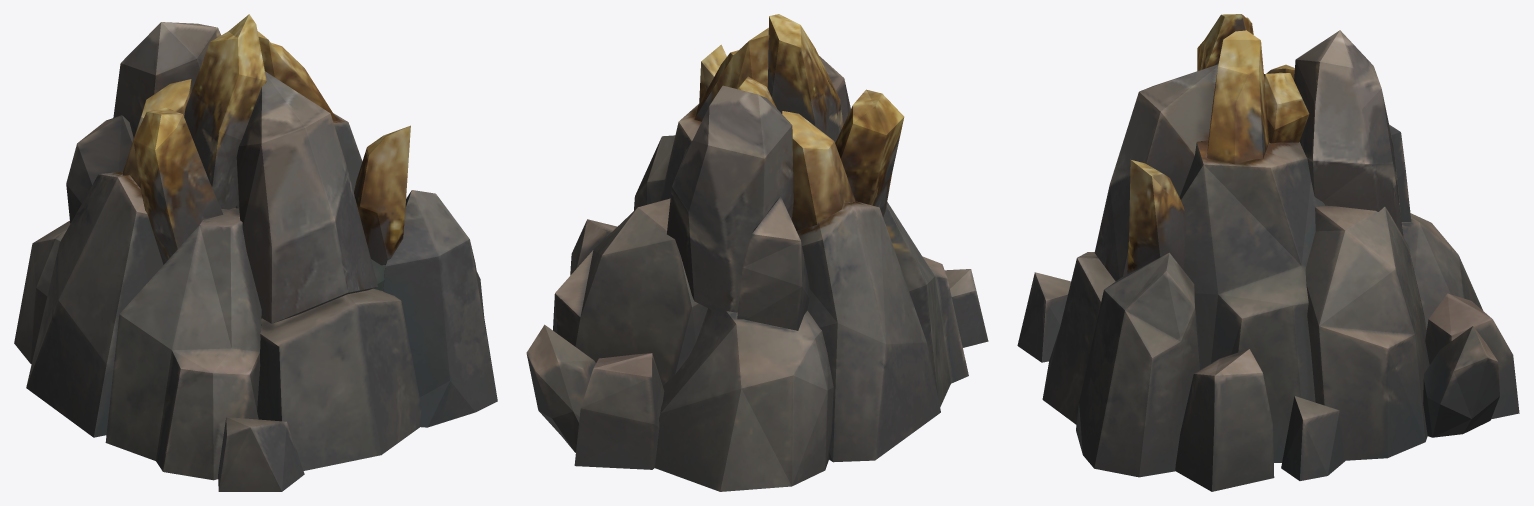
File: CopperMine.FBX
3 views of the same model, side by side, from view 1: azimuth 30°, elevation 25°; view 2: azimuth 150°, elevation 25°; view 3: azimuth 270°, elevation 25° (orthographic). The views are drawn at different scales.
Visible parts, largest first — view 1: Kuangshi; view 2: Kuangshi; view 3: Kuangshi.
Part boxes in pixels (x1,y1,x2,y2): Kuangshi: (14,14,497,491); Kuangshi: (526,14,988,491); Kuangshi: (1017,14,1519,491).
Size of the model in its own units: 1.47 by 1.37 by 1.66.
Materials: 1 (1 with a texture image).
